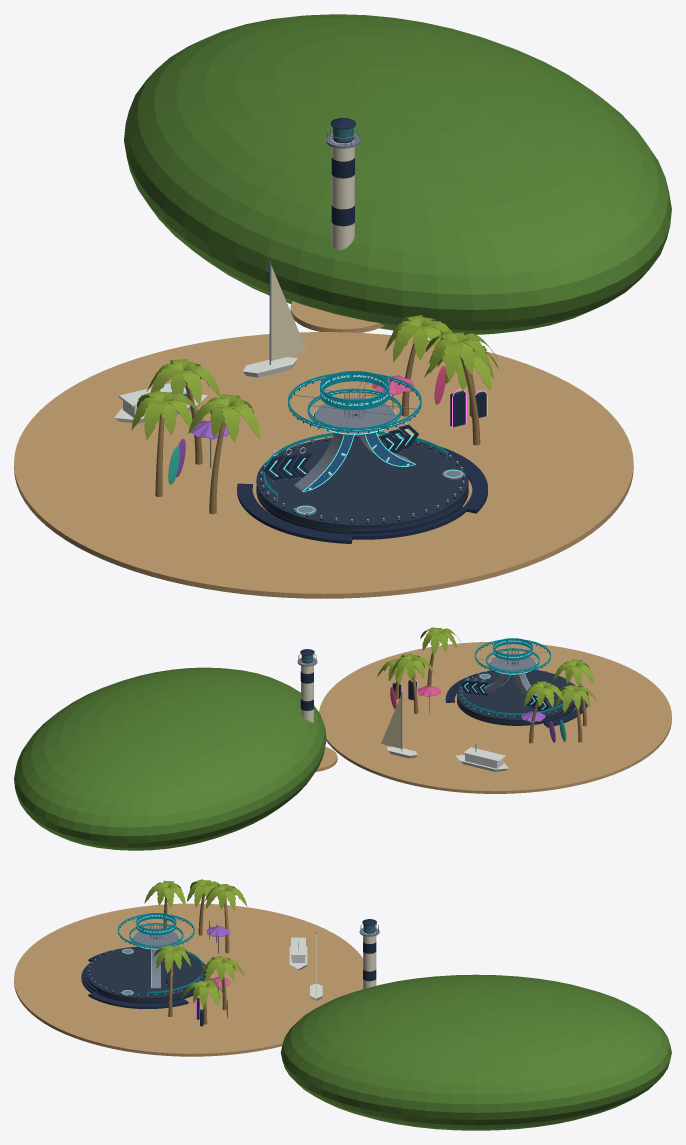
File: harbor-scene-r02-material.glb
The picture shows the model from 3 angles, top to bottom: view 1: azimuth 30°, elevation 25°; view 2: azimuth 150°, elevation 25°; view 3: azimuth 270°, elevation 25°; orthographic projection. The views are drawn at different scales.
Parts seen in each view (by area): view 1: ENV_REAR_HILL, ENV_SAND_ISLAND, PLATFORM_MAIN, SAILBOAT_MAINSAIL, OUTER_WING_L, LIGHTHOUSE_TOWER, CROWN_SAUCER, LIGHTHOUSE_ISLET, CROWN_TOP_DISPLAY_DRUM, FRAME_L, CROWN_OUTER_DISPLAY_RING, OUTER_WING_R; view 2: ENV_REAR_HILL, ENV_SAND_ISLAND, PLATFORM_MAIN, SAILBOAT_MAINSAIL, CROWN_SAUCER, CROWN_TOP_DISPLAY_DRUM, LIGHTHOUSE_TOWER, CROWN_OUTER_DISPLAY_RING; view 3: ENV_REAR_HILL, ENV_SAND_ISLAND, PLATFORM_MAIN, OUTER_WING_R, CROWN_SAUCER, CROWN_TOP_DISPLAY_DRUM, LIGHTHOUSE_TOWER.
Boxes of the visible parts, x1=… form: ENV_REAR_HILL: x1=124, y1=14, x2=671, y2=334; ENV_SAND_ISLAND: x1=14, y1=332, x2=633, y2=598; PLATFORM_MAIN: x1=257, y1=436, x2=467, y2=531; SAILBOAT_MAINSAIL: x1=271, y1=265, x2=307, y2=360; OUTER_WING_L: x1=237, y1=483, x2=352, y2=543; LIGHTHOUSE_TOWER: x1=331, y1=139, x2=354, y2=249; CROWN_SAUCER: x1=313, y1=398, x2=395, y2=435; LIGHTHOUSE_ISLET: x1=290, y1=301, x2=384, y2=332; CROWN_TOP_DISPLAY_DRUM: x1=320, y1=371, x2=389, y2=410; FRAME_L: x1=294, y1=433, x2=353, y2=491; CROWN_OUTER_DISPLAY_RING: x1=288, y1=373, x2=421, y2=431; OUTER_WING_R: x1=414, y1=440, x2=487, y2=513; ENV_REAR_HILL: x1=14, y1=667, x2=326, y2=850; ENV_SAND_ISLAND: x1=319, y1=642, x2=671, y2=793; PLATFORM_MAIN: x1=457, y1=670, x2=574, y2=723; SAILBOAT_MAINSAIL: x1=381, y1=694, x2=401, y2=748; CROWN_SAUCER: x1=489, y1=653, x2=536, y2=674; CROWN_TOP_DISPLAY_DRUM: x1=493, y1=638, x2=532, y2=660; LIGHTHOUSE_TOWER: x1=301, y1=661, x2=313, y2=722; CROWN_OUTER_DISPLAY_RING: x1=474, y1=639, x2=550, y2=672; ENV_REAR_HILL: x1=280, y1=974, x2=671, y2=1130; ENV_SAND_ISLAND: x1=14, y1=903, x2=362, y2=1056; PLATFORM_MAIN: x1=87, y1=947, x2=206, y2=1002; OUTER_WING_R: x1=88, y1=992, x2=188, y2=1008; CROWN_SAUCER: x1=132, y1=928, x2=179, y2=949; CROWN_TOP_DISPLAY_DRUM: x1=136, y1=913, x2=176, y2=935; LIGHTHOUSE_TOWER: x1=363, y1=931, x2=376, y2=989.
Size of what is drawn, in the model's own units: 60 by 17.65 by 74.
21 materials, 2 textured.
